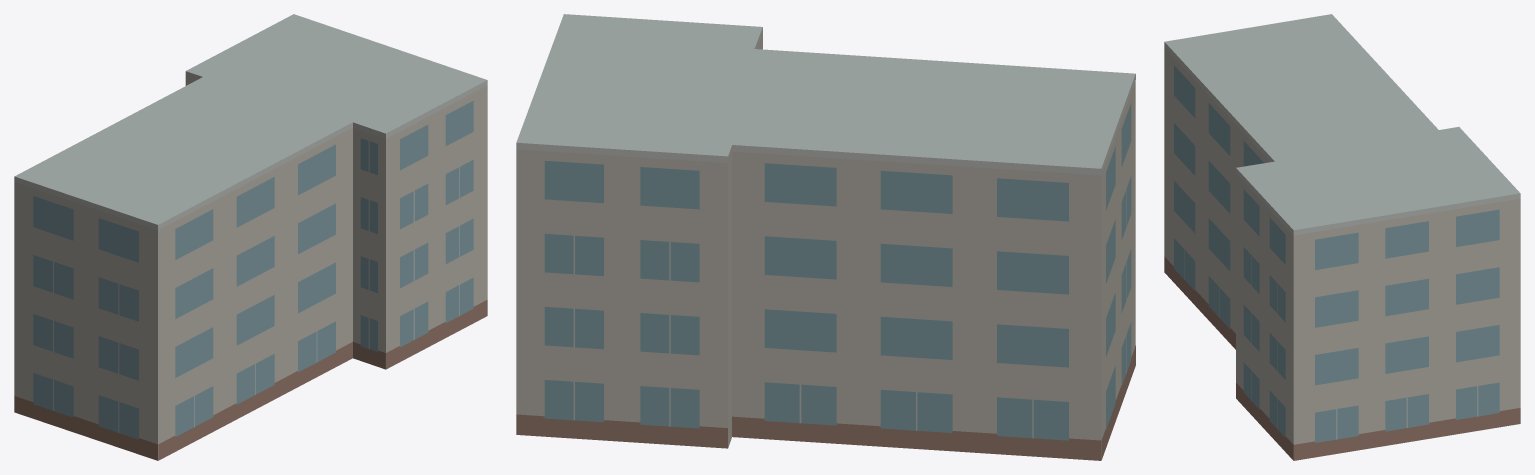
The model's file is survey-upis-33021788.glb.
3 views of the same model, side by side, from view 1: azimuth 30°, elevation 25°; view 2: azimuth 150°, elevation 25°; view 3: azimuth 270°, elevation 25° (orthographic). The views are drawn at different scales.
Visible parts, largest first — view 1: survey-upis-33021788.tmp; view 2: survey-upis-33021788.tmp; view 3: survey-upis-33021788.tmp.
Part boxes in pixels (box(x1,y1,x2,y2)): survey-upis-33021788.tmp: box(14, 14, 487, 460); survey-upis-33021788.tmp: box(516, 14, 1135, 460); survey-upis-33021788.tmp: box(1164, 14, 1520, 460).
Bounding box in the file's own units: 21.74 × 10.8 × 15.13.
